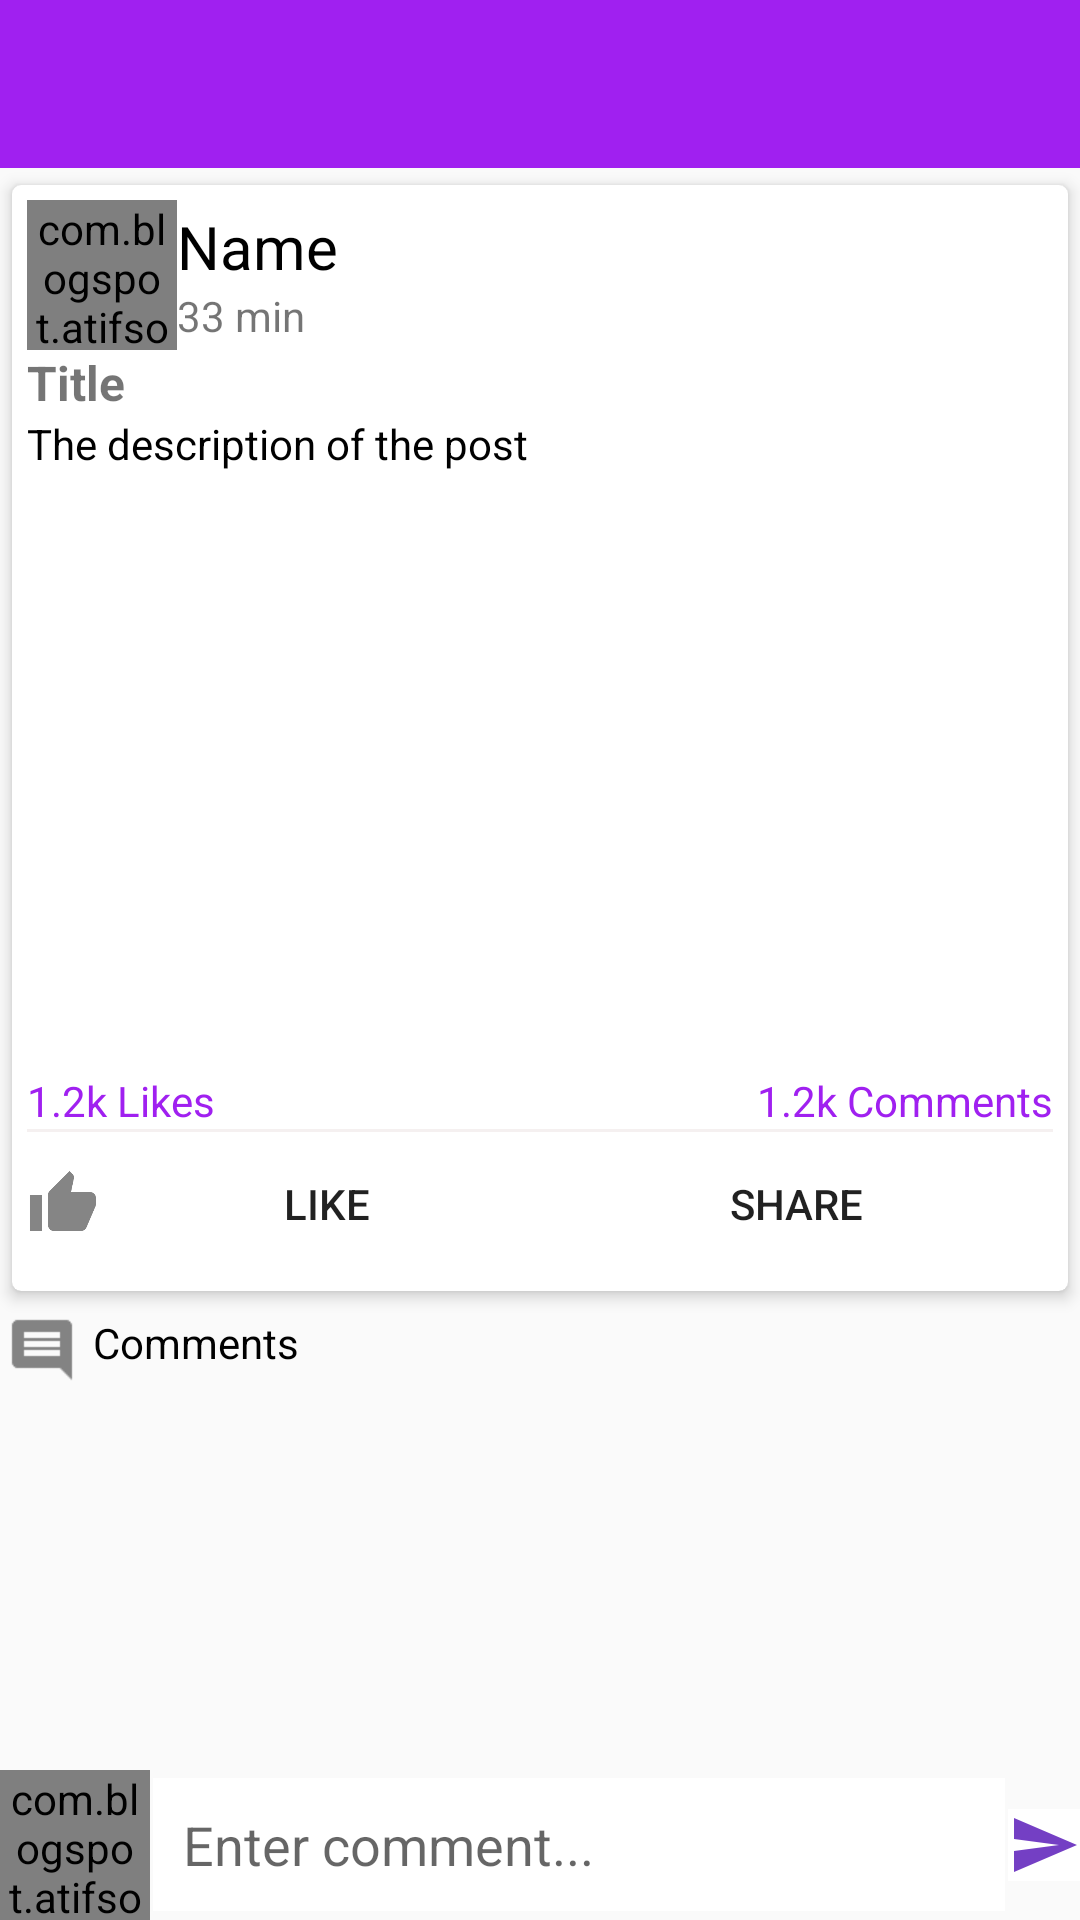

Icon click points for this 1080px×1920px phone screenshot, format point (x, y):
send: point (1045, 1845)
